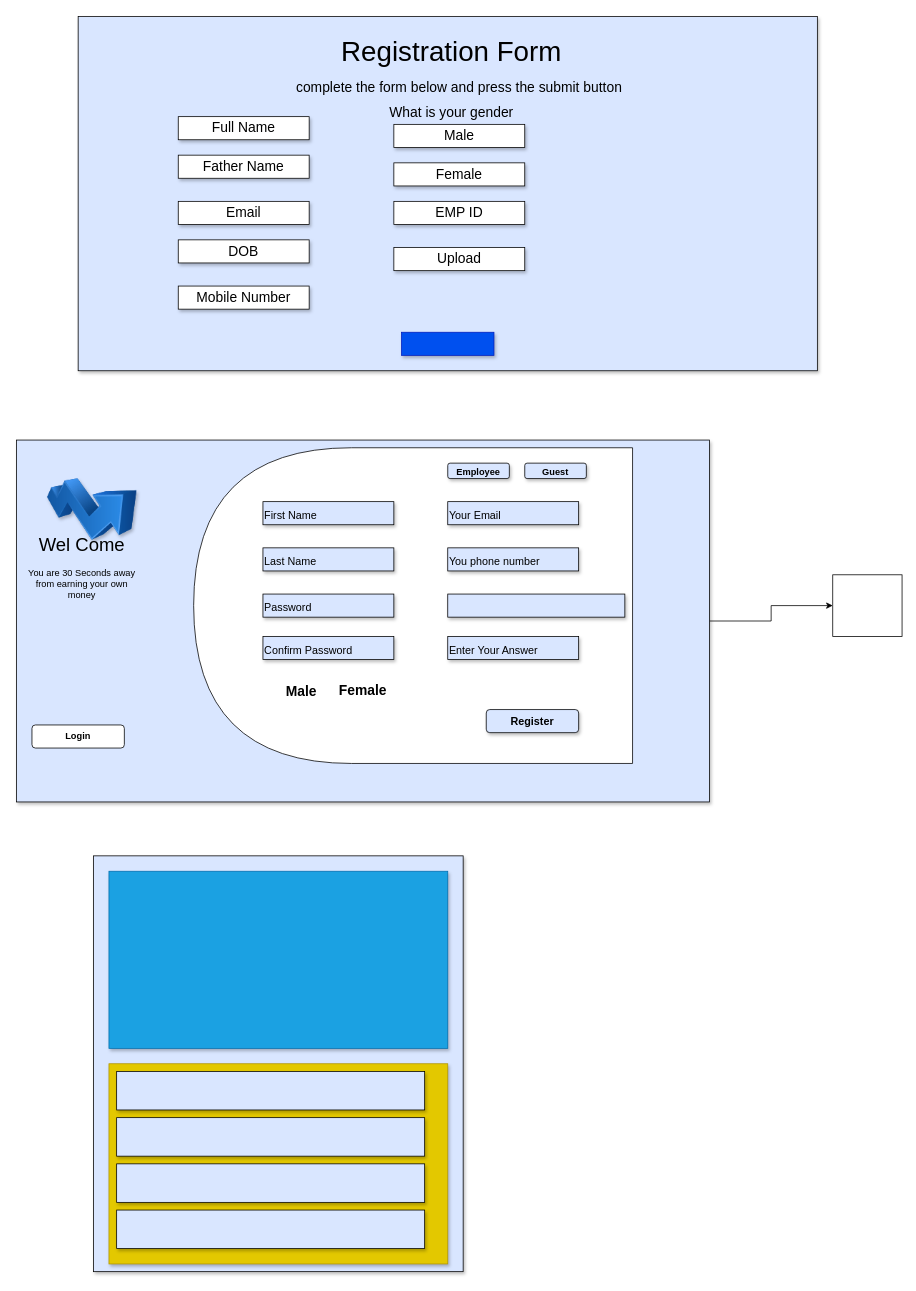
This 916x1291 diagram has some shape labels left out. The shapes that lost their labels are listed below. From the top down, each one's centre as x and y in pixels, then its label:
At (x=448, y=344): "Submit".
At (x=536, y=606): "Please select you security question".
At (x=867, y=605): "height 470 width 900".
